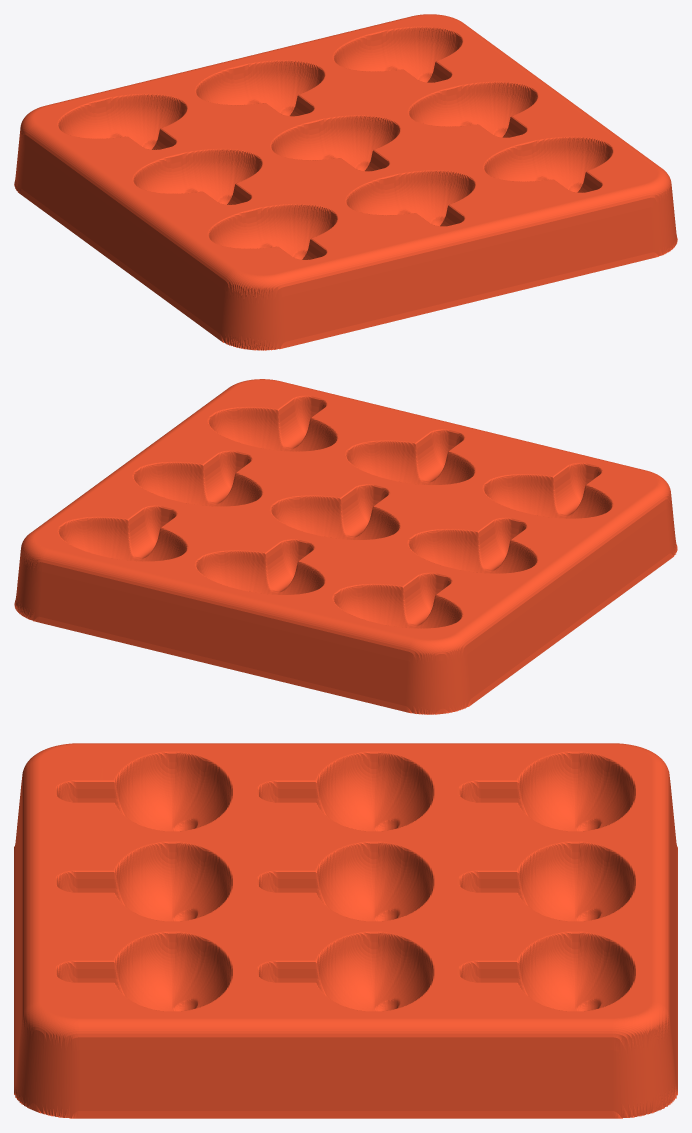
The model's file is mold.glb.
3 views of the same model, one above another, from view 1: azimuth 30°, elevation 25°; view 2: azimuth 150°, elevation 25°; view 3: azimuth 270°, elevation 25° (orthographic). The views are drawn at different scales.
Visible parts, largest first — view 1: geometry_0; view 2: geometry_0; view 3: geometry_0.
Boxes of the visible parts, x1,y1,x2,y2 form: geometry_0: (14, 14, 677, 350); geometry_0: (14, 379, 677, 714); geometry_0: (14, 743, 677, 1118).
Bounding box in the file's own units: 0.0964 × 0.0136 × 0.0916.
